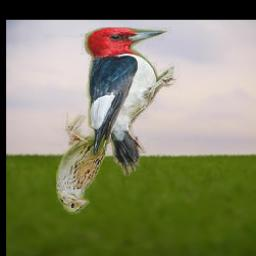Sparrow: (56, 111, 111, 215)
Woodpecker: (80, 28, 181, 178)
